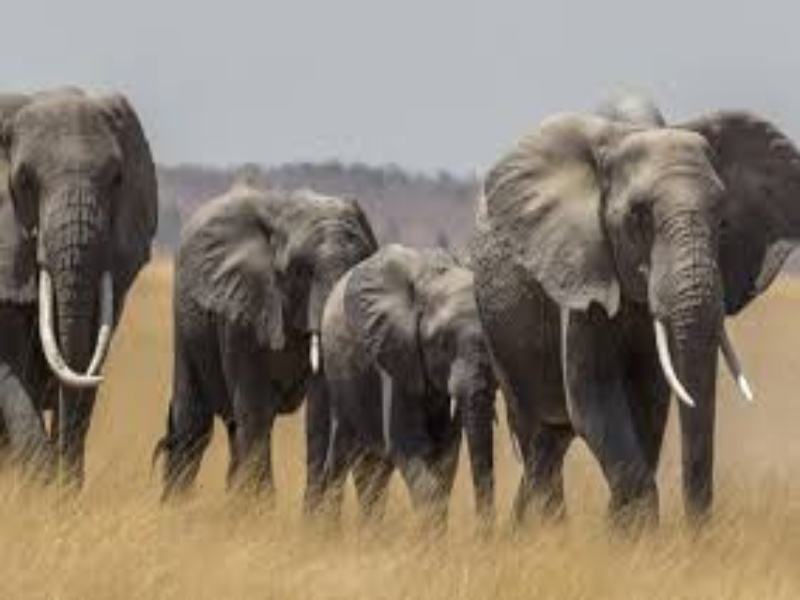elephant: (5, 78, 793, 568)
